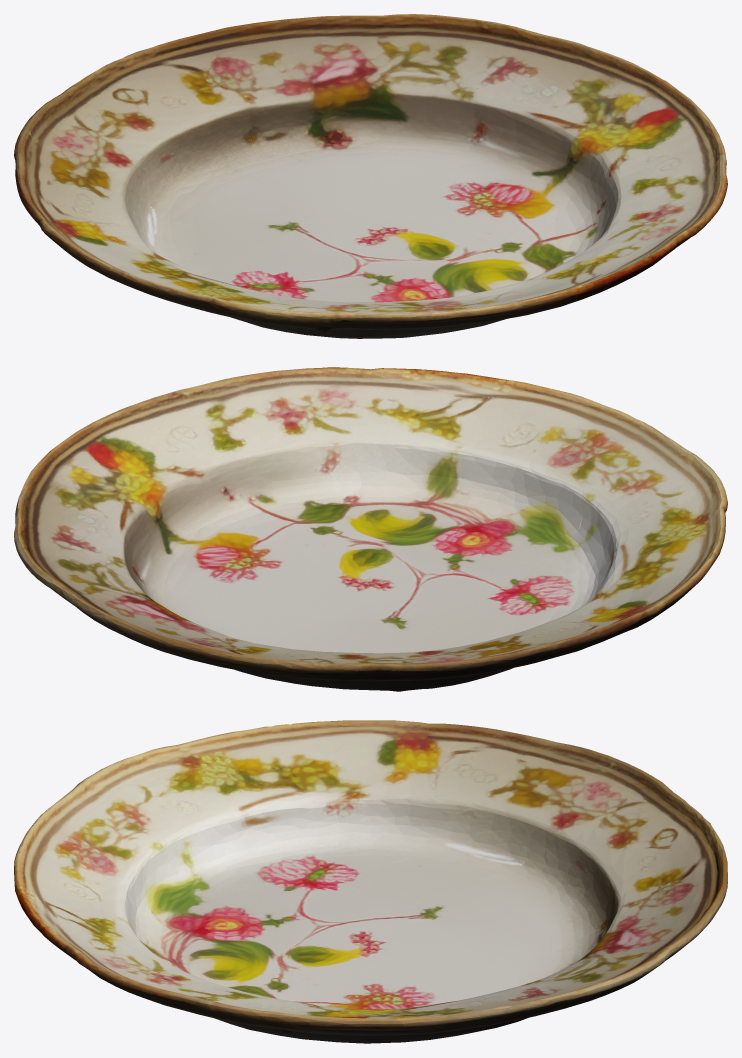
File: porcelain-hand-painted-plate-used-rustic-worn.jpeg.glb
3 renders of one model, top to bottom at view 1: azimuth 30°, elevation 25°; view 2: azimuth 150°, elevation 25°; view 3: azimuth 270°, elevation 25°, orthographic.
Visible parts, largest first — view 1: world; view 2: world; view 3: world.
Part boxes in pixels (left/top/right/bottom): world: left=14, top=14, right=727, bottom=338; world: left=14, top=367, right=727, bottom=691; world: left=14, top=720, right=727, bottom=1043.
Bounding box in the file's own units: 1 × 0.137 × 1.
Materials: 1 (1 with a texture image).
